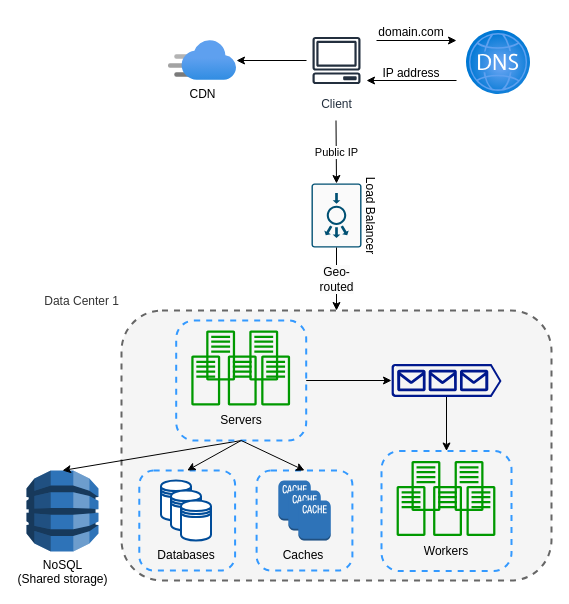
The diagram is 569 pixels wide and 604 high, and some of its shapes have lost their labels. Each missing label, with the centre of its shape:
DNS: (498,62)
Messasge queue: (446,380)
